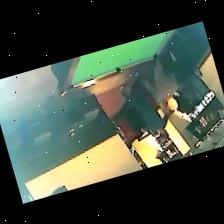person: (120, 85, 168, 140), (136, 54, 178, 109)
